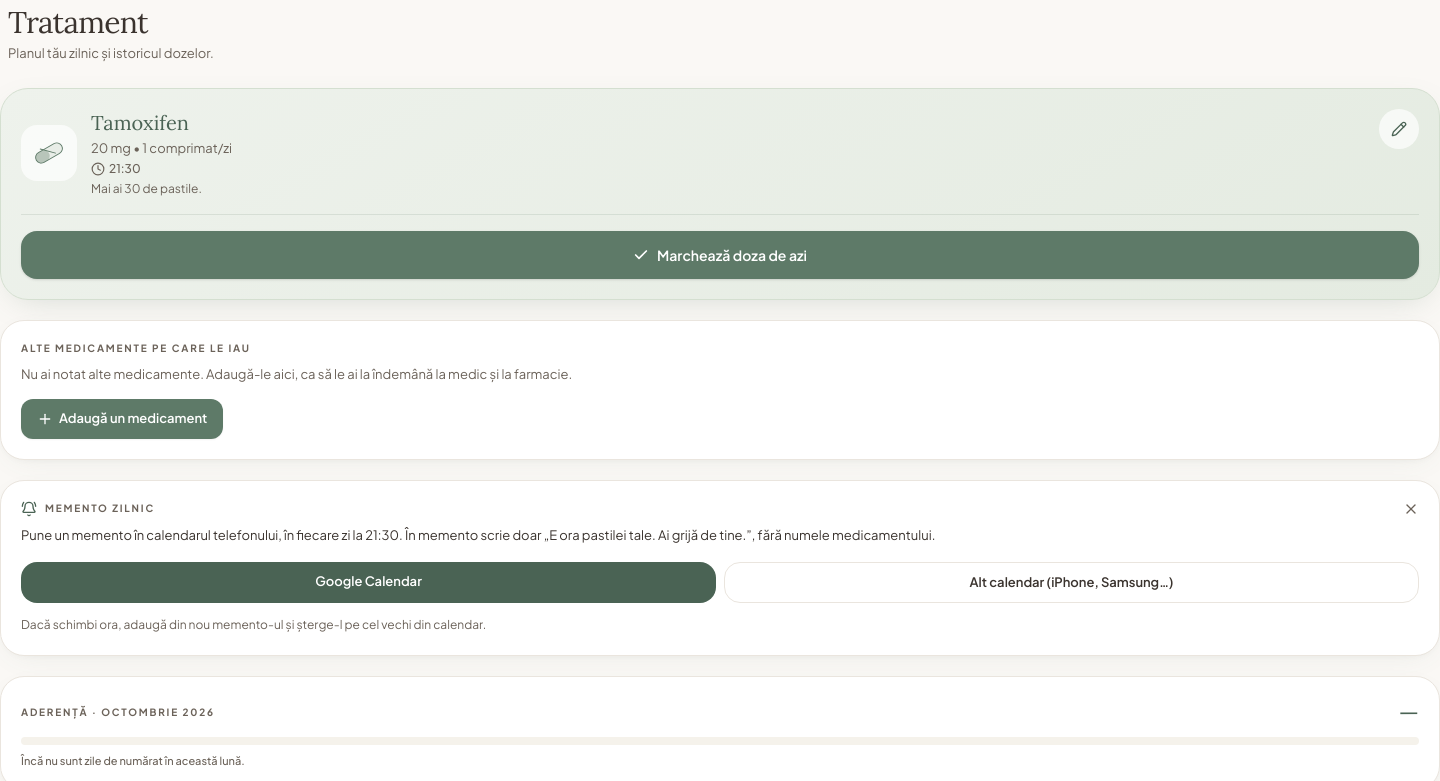
Cardul de memento după ce e pus › se poate ascunde cu X (memento pus pe altă cale) și rămâne ascuns la redeschidere
The image size is (1440, 781).
Click the button named "Ascunde memento-ul". click: (1411, 509)
box: [1391,489,1431,529]
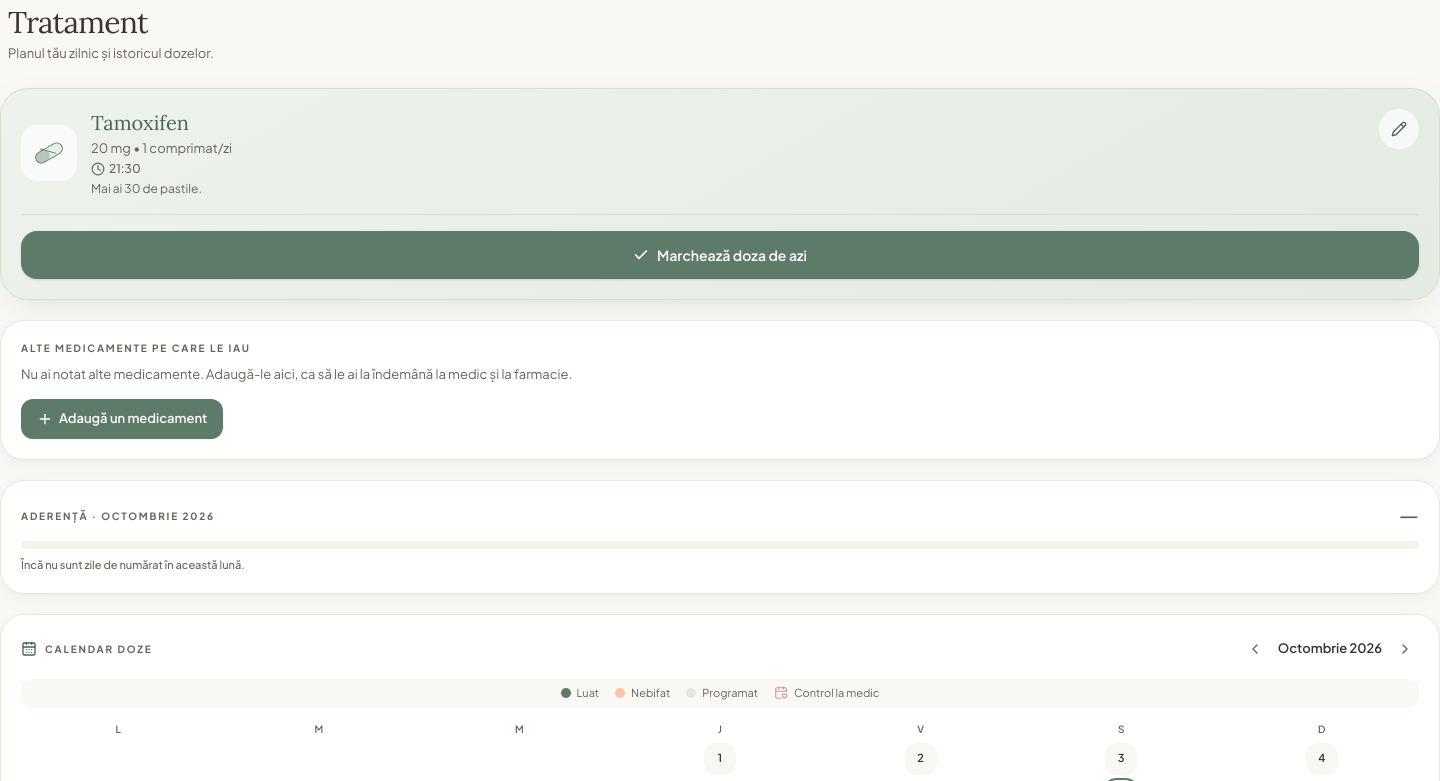
Result: the heading "Memento zilnic" is gone
